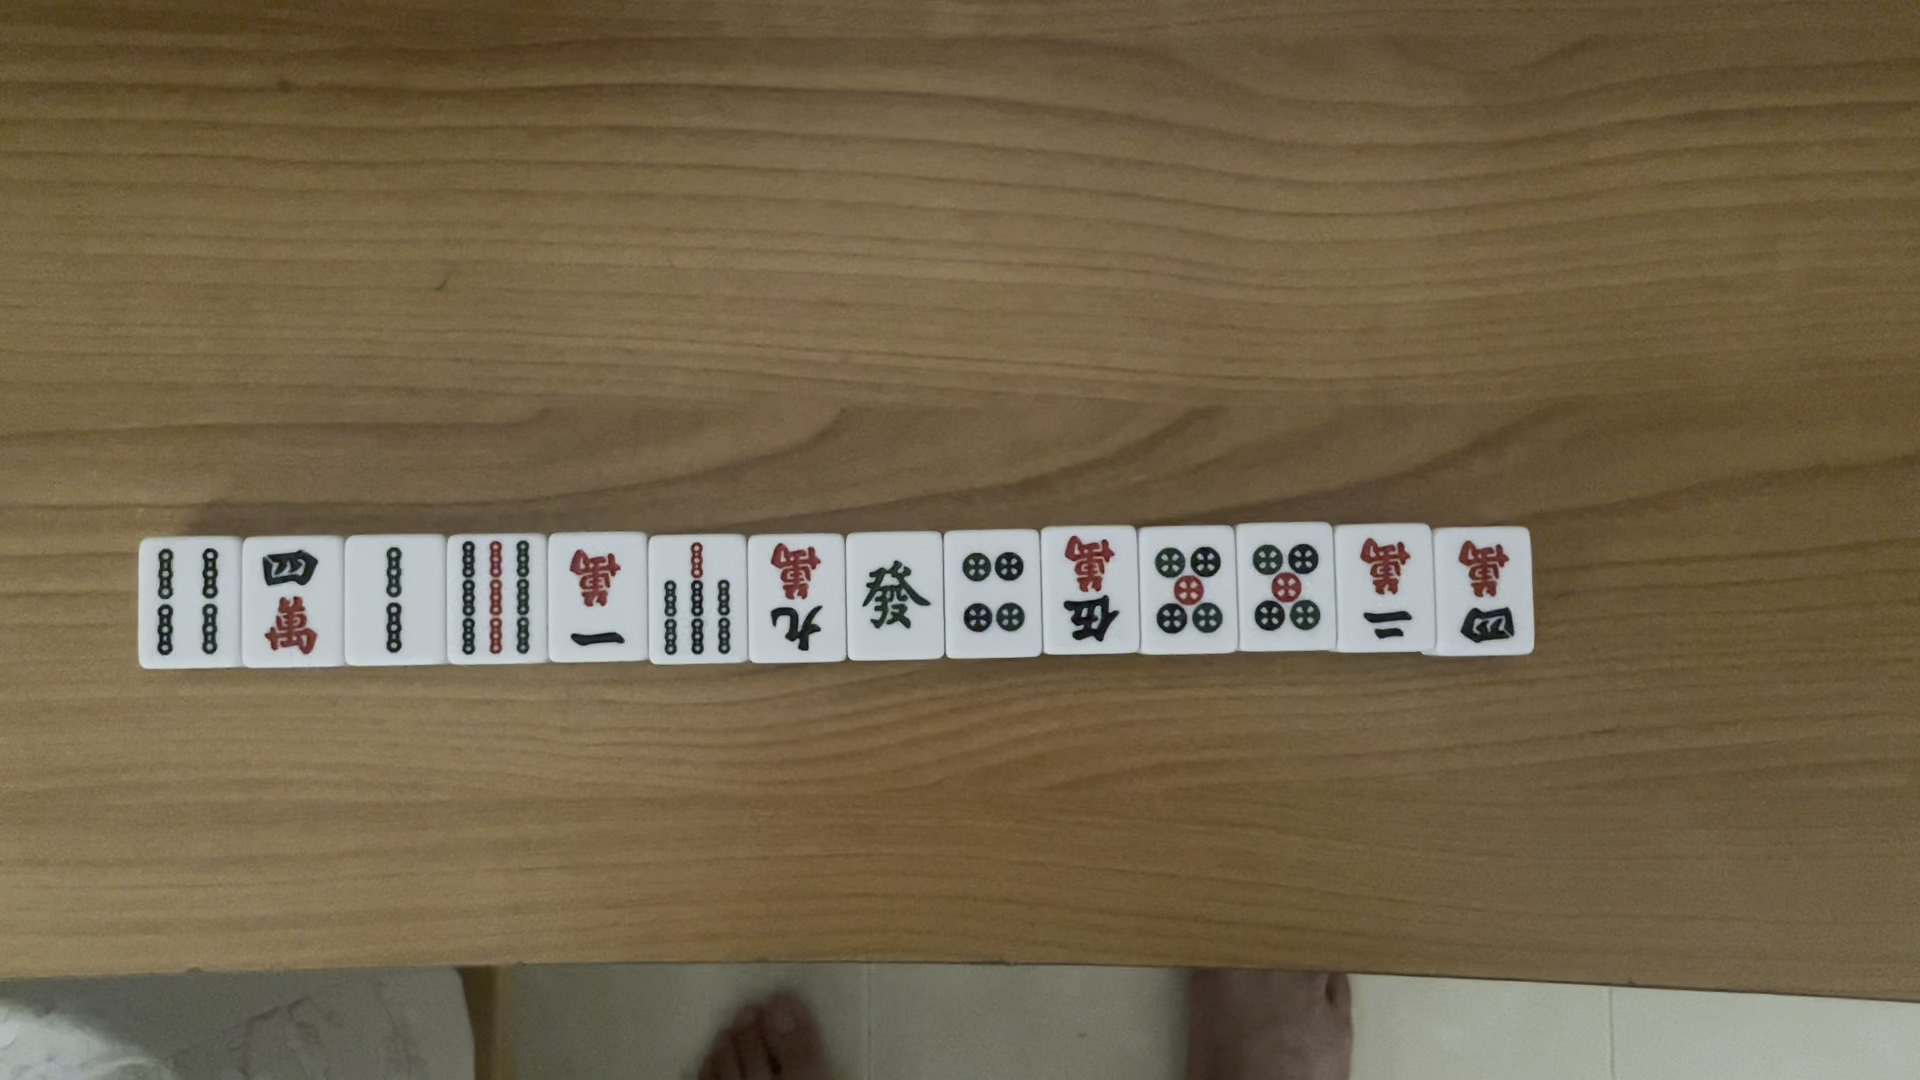b-2: (357, 545, 423, 655)
b-4: (146, 546, 225, 659)
b-7: (655, 538, 736, 663)
b-9: (452, 538, 542, 662)
c-1: (562, 538, 633, 653)
c-2: (1348, 533, 1423, 641)
c-4: (245, 546, 334, 665), (1445, 534, 1528, 644)
c-5: (1058, 537, 1124, 646)
c-9: (758, 537, 831, 662)
d-4: (952, 543, 1033, 647)
d-5: (1145, 538, 1233, 641), (1247, 541, 1327, 638)
honors-green: (855, 556, 936, 638)
